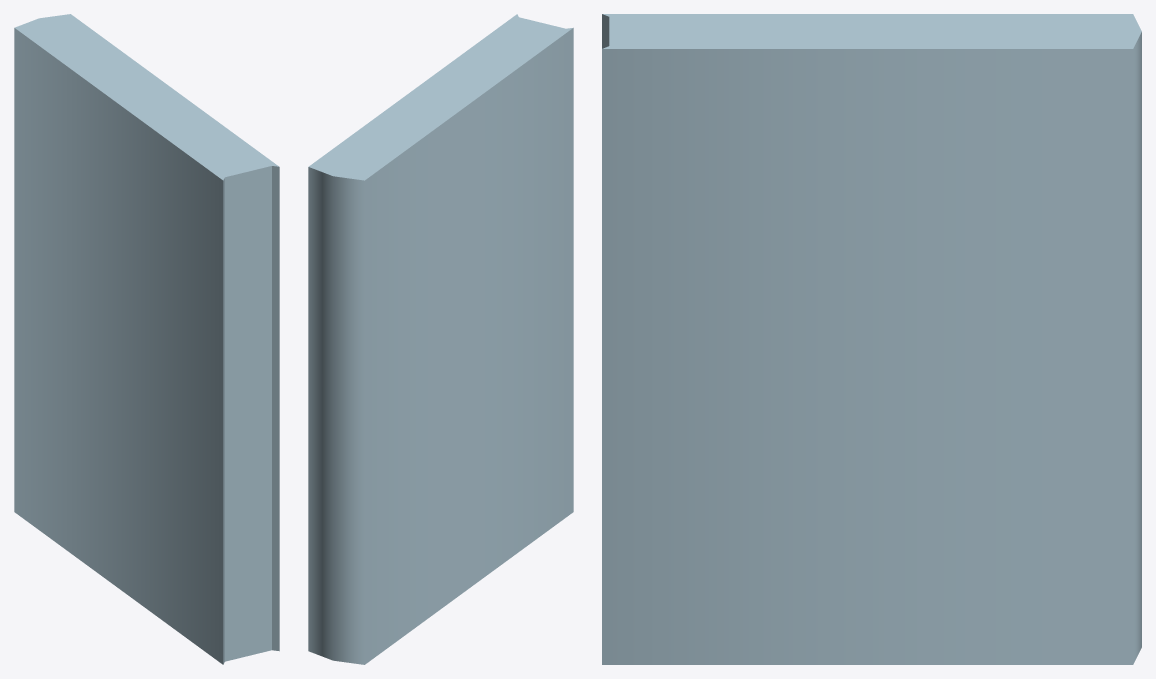
File: Prop_book1.FBX
3 views of the same model, side by side, from view 1: azimuth 30°, elevation 25°; view 2: azimuth 150°, elevation 25°; view 3: azimuth 270°, elevation 25° (orthographic). The views are drawn at different scales.
Visible parts, largest first — view 1: Prop_book; view 2: Prop_book; view 3: Prop_book.
Part boxes in pixels (x1,y1,x2,y2): Prop_book: [14, 14, 279, 664]; Prop_book: [308, 14, 573, 664]; Prop_book: [602, 14, 1141, 664].
Bounding box in the file's own units: 3.31 × 21.6 × 27.19.
